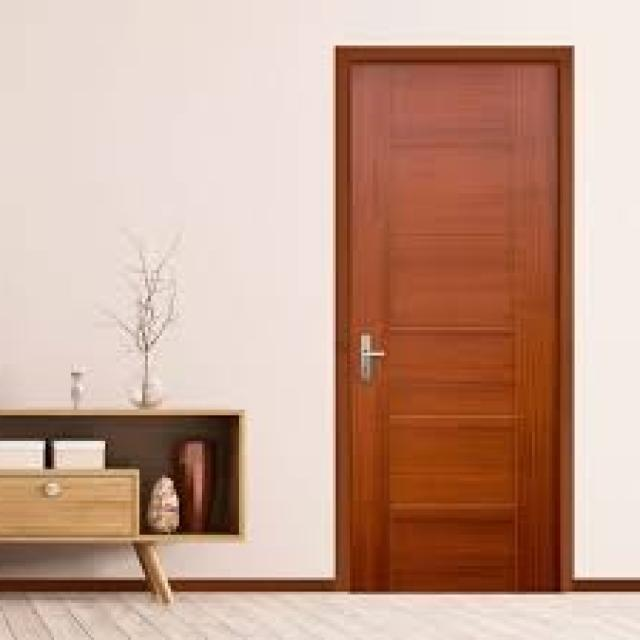door: (337, 46, 570, 594)
